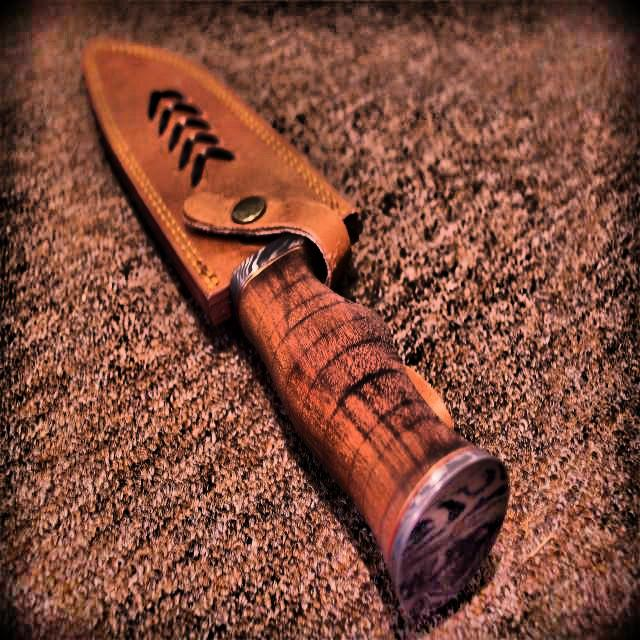knife: (80, 42, 511, 625)
